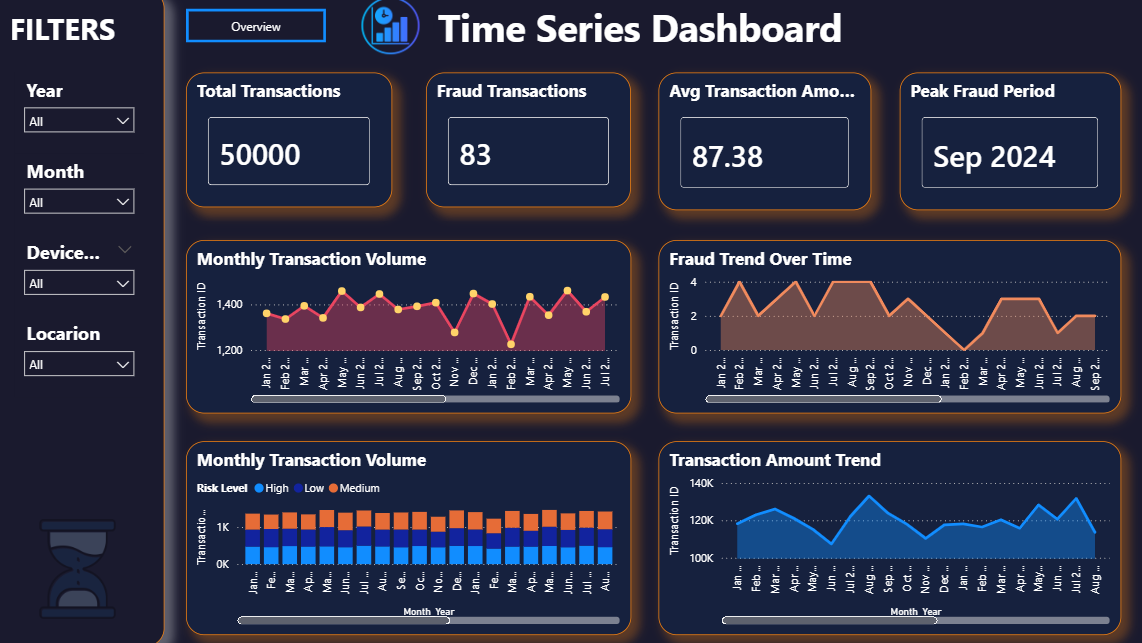

The dashboard page shown, as its layout file describes it:
{"tool":"powerbi","page":{"name":"Page 4","canvas":[1280,720],"ordinal":3},"visuals":[{"type":"cardVisual","title":"Total Transactions","fields":{"Data":["enriched_data.Total Transactions"]},"box":[214.1,90.6,226.4,148.2],"z":0},{"type":"cardVisual","title":"Fraud Transactions","fields":{"Data":["Sum(enriched_data.class)"]},"box":[477.5,90.6,225,148.2],"z":1000},{"type":"cardVisual","title":"Peak Fraud Period","fields":{"Data":["enriched_data.Peak Fraud Month"]},"box":[997.6,90.6,242.9,150.9],"z":2000},{"type":"cardVisual","title":"Avg Transaction Amount","fields":{"Data":["Avg(enriched_data.amount)"]},"box":[732.8,90.6,233.3,150.9],"z":3000},{"type":"lineChart","title":"Monthly Transaction Volume","fields":{"Category":["enriched_data.Month_Year"],"Y":["CountNonNull(enriched_data.transaction_id)"]},"box":[214.1,274.4,488.5,190.7],"z":4000},{"type":"lineChart","title":"Fraud Trend Over Time","fields":{"Category":["enriched_data.Month_Year"],"Y":["Sum(enriched_data.class)"]},"box":[732.8,274.4,507.7,190.7],"z":5000},{"type":"areaChart","title":"Transaction Amount Trend","fields":{"Category":["enriched_data.Month_Year"],"Y":["Sum(enriched_data.amount)"]},"box":[732.8,495.4,507.7,212.7],"z":6000},{"type":"columnChart","title":"Monthly Transaction Volume","fields":{"Category":["enriched_data.Month_Year"],"Y":["CountNonNull(enriched_data.transaction_id)"],"Series":["enriched_data.Balanced_Risk_Level"]},"box":[214.1,495.4,488.5,212.7],"z":7000},{"type":"textbox","title":"FILTERS","box":[0,0,190.7,720.4],"z":8000},{"type":"slicer","fields":{"Values":["enriched_data.year"]},"box":[26.1,90.6,141.3,89.2],"z":9000},{"type":"slicer","fields":{"Values":["enriched_data.month"]},"box":[26.1,179.8,141.3,89.2],"z":10000},{"type":"slicer","fields":{"Values":["enriched_data.device_type"]},"box":[26.1,269,141.3,89.2],"z":11000},{"type":"slicer","fields":{"Values":["enriched_data.location"]},"box":[26.1,358.1,141.3,89.2],"z":12000},{"type":"textbox","title":"Time Series Dashboard","box":[485.8,12.3,480.3,54.9],"z":13000},{"type":"image","box":[377.6,5.5,122.7,67.5],"z":14000},{"type":"image","box":[40,563.7,110.3,143.3],"z":15000},{"type":"actionButton","title":"Overview ","box":[214.1,20.6,153.7,37],"z":16000}]}

Visuals, with their boxes in screenshot pixels (x1, y1, x2, y2), scaled from the page's 1280x720 canvas onto the 1142x643 screenshot:
"Total Transactions" cardVisual: 191,81,393,213
"Fraud Transactions" cardVisual: 426,81,627,213
"Peak Fraud Period" cardVisual: 890,81,1107,216
"Avg Transaction Amount" cardVisual: 654,81,862,216
"Monthly Transaction Volume" lineChart: 191,245,627,415
"Fraud Trend Over Time" lineChart: 654,245,1107,415
"Transaction Amount Trend" areaChart: 654,442,1107,632
"Monthly Transaction Volume" columnChart: 191,442,627,632
"FILTERS" textbox: 0,0,170,642
slicer - enriched_data.year: 23,81,149,161
slicer - enriched_data.month: 23,161,149,240
slicer - enriched_data.device_type: 23,240,149,320
slicer - enriched_data.location: 23,320,149,399
"Time Series Dashboard" textbox: 433,11,862,60
image: 337,5,446,65
image: 36,503,134,631
"Overview " actionButton: 191,18,328,51
